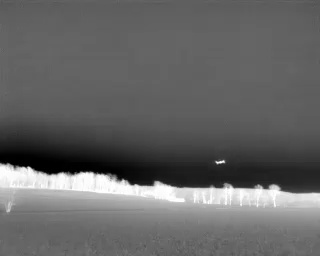DRONE: (211, 156, 231, 170)
